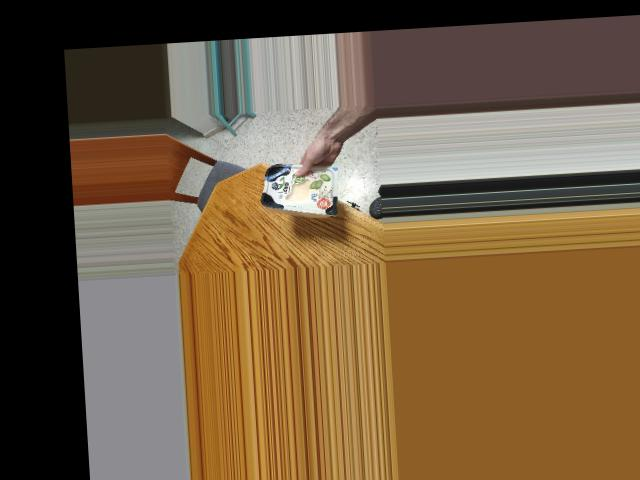cheese: (259, 146, 345, 224)
